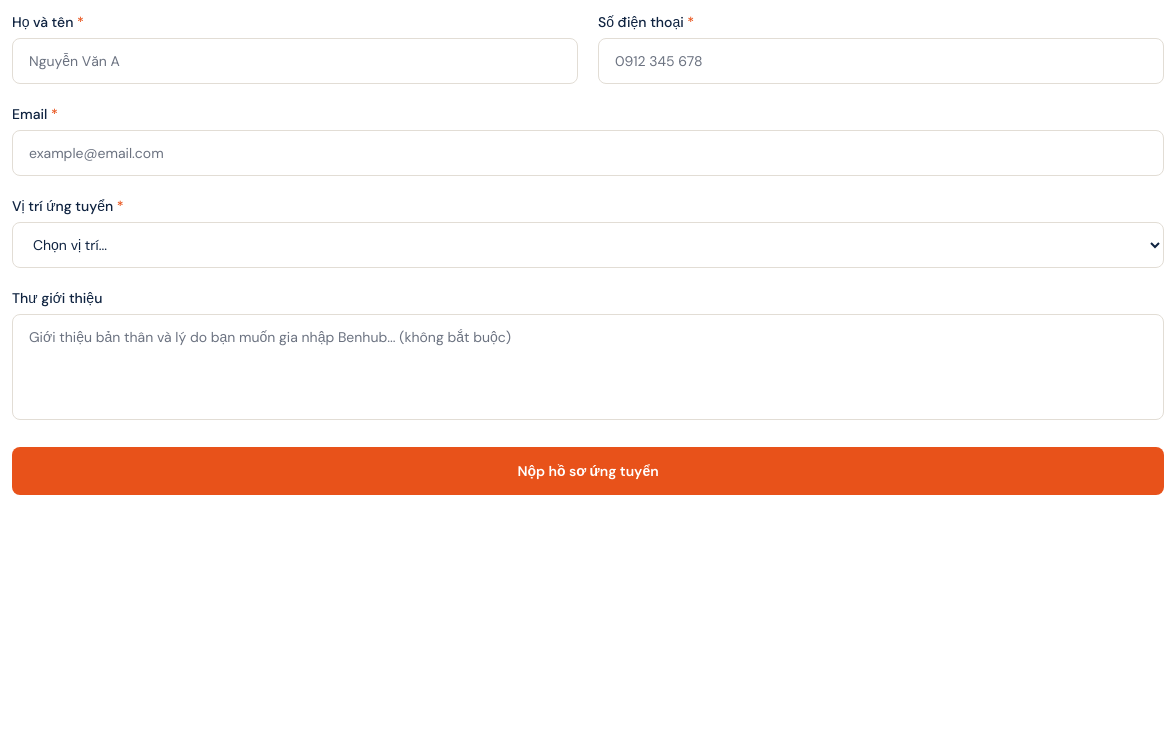
Test: JobApplyForm — validation › shows error for missing fullName
Click the button "Nộp hồ sơ ứng tuyển": (588,471) [12, 447, 1164, 495]
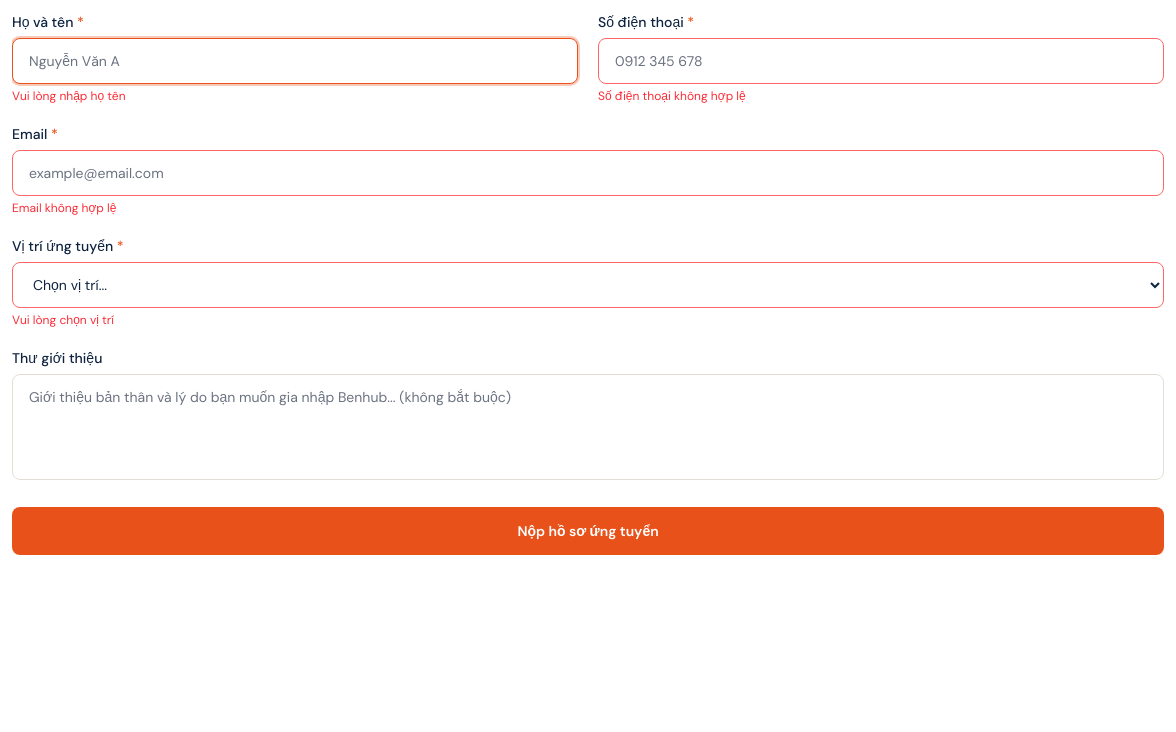
Expected: the text "Vui lòng nhập họ tên" is shown, [12, 88, 126, 104]
